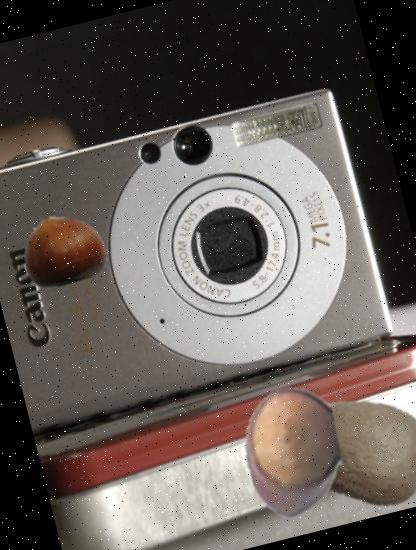Hazelnut: (212, 371, 374, 533)
Kiwi: (284, 371, 416, 531)
Nut: (12, 200, 113, 300)
